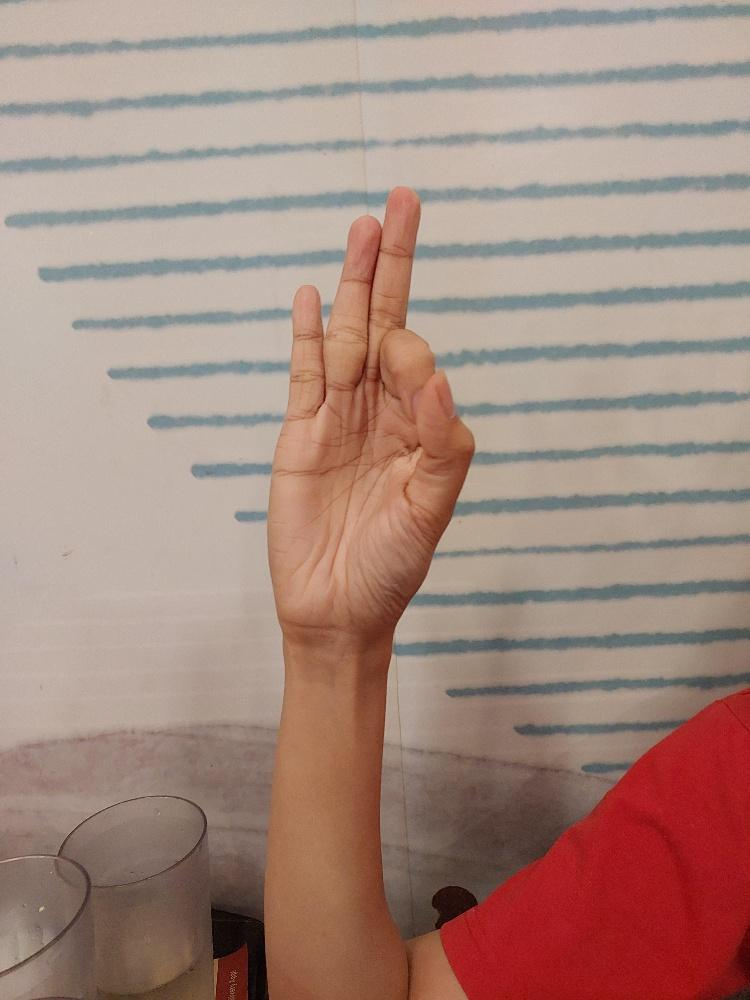f: (264, 183, 476, 630)
